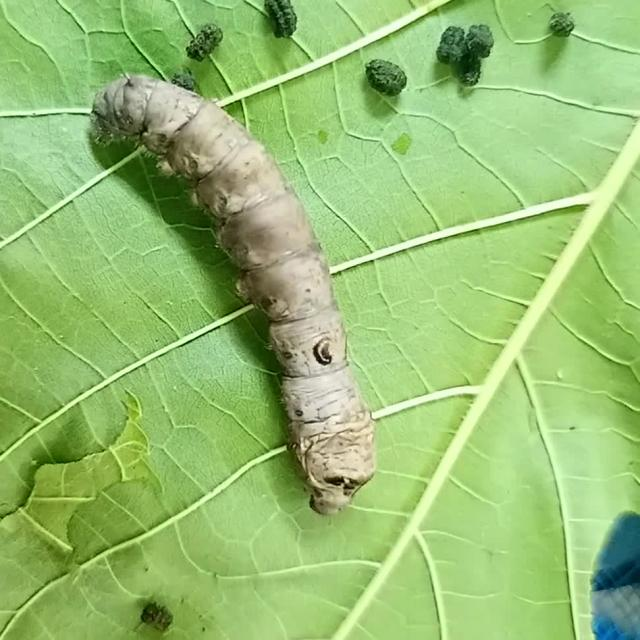Grasserie: (86, 62, 387, 517)
